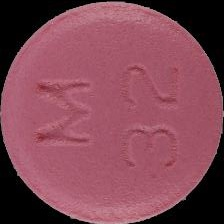51079-801: (0, 0, 224, 224)
